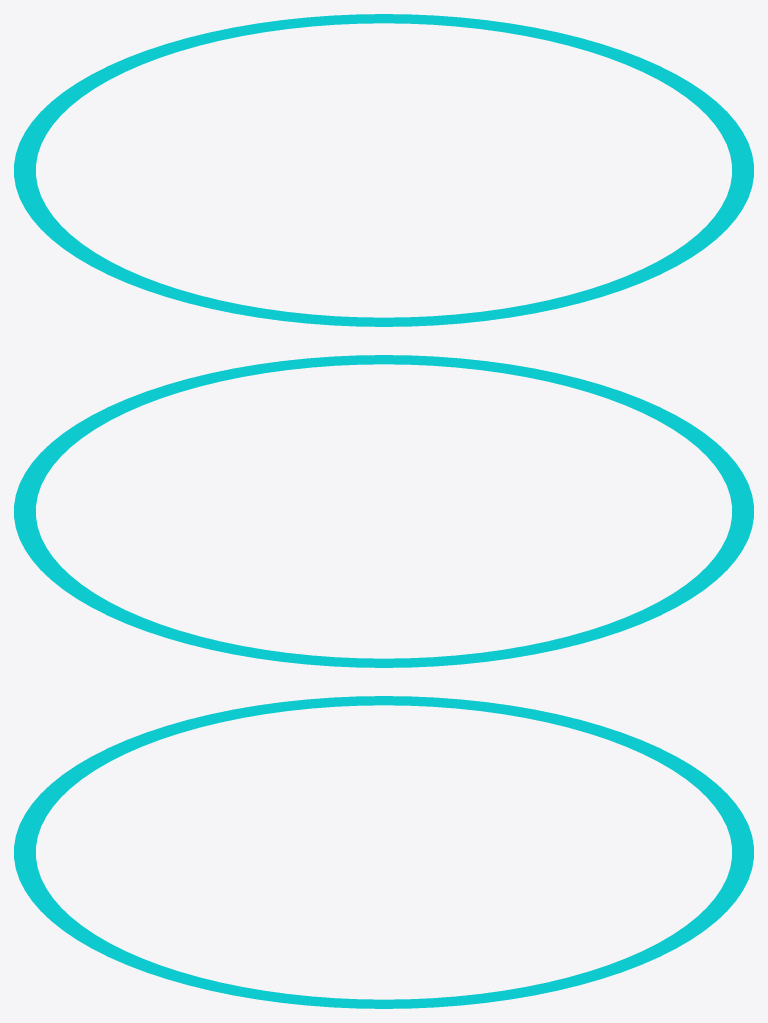
File: ring_01.fbx
The picture shows the model from 3 angles, top to bottom: view 1: azimuth 30°, elevation 25°; view 2: azimuth 150°, elevation 25°; view 3: azimuth 270°, elevation 25°; orthographic projection.
Parts seen in each view (by area): view 1: polySurface396; view 2: polySurface396; view 3: polySurface396.
Part boxes in pixels (left/top/right/bottom): polySurface396: left=14, top=14, right=753, bottom=326; polySurface396: left=14, top=355, right=753, bottom=667; polySurface396: left=14, top=696, right=753, bottom=1008.
Size of the model in its own units: 293 by 0 by 293.
